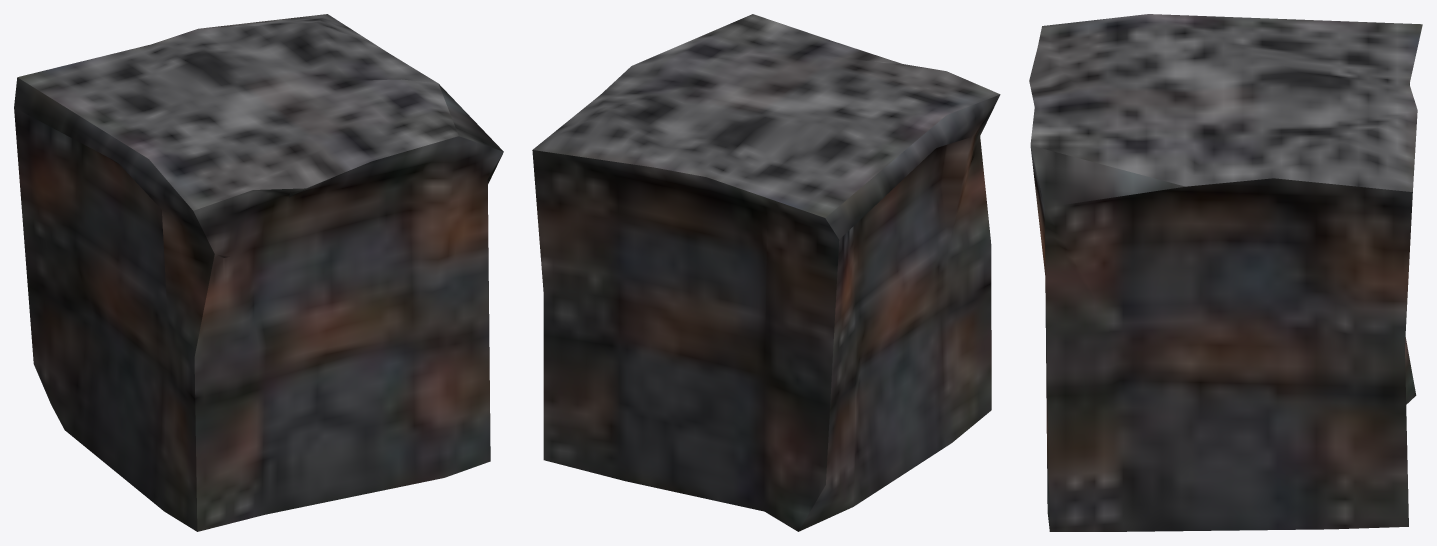
Rendered from b_braises_mur_3_lod1.glb.
The picture shows the model from 3 angles, left to right: view 1: azimuth 30°, elevation 25°; view 2: azimuth 150°, elevation 25°; view 3: azimuth 270°, elevation 25°; orthographic projection. The views are drawn at different scales.
Parts seen in each view (by area): view 1: geometry_0; view 2: geometry_0; view 3: geometry_0.
Part boxes in pixels (x1,y1,x2,y2): geometry_0: (14,14,503,531); geometry_0: (532,14,1000,531); geometry_0: (1029,14,1422,531).
Bounding box in the file's own units: 1 × 1.06 × 1.
1 material, 1 textured.
